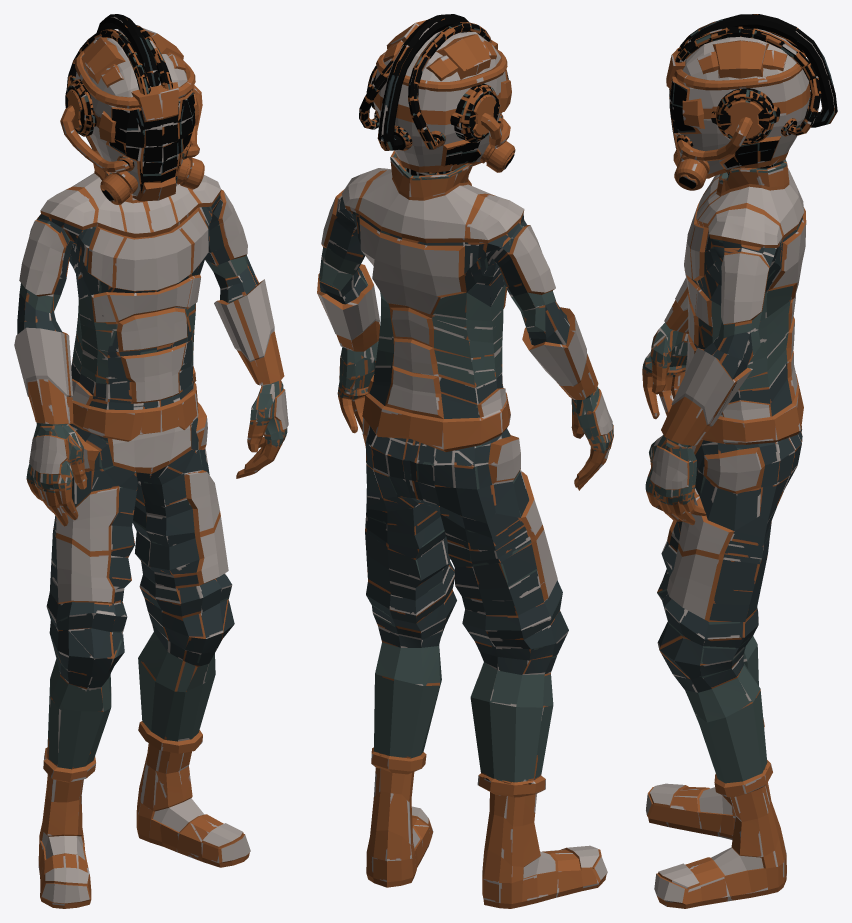
File: Fit.obj
The picture shows the model from 3 angles, left to right: view 1: azimuth 30°, elevation 25°; view 2: azimuth 150°, elevation 25°; view 3: azimuth 270°, elevation 25°; orthographic projection. The views are drawn at different scales.
Visible parts, largest first — view 1: SpaceSuit_Legs; view 2: SpaceSuit_Legs; view 3: SpaceSuit_Legs.
Part boxes in pixels (x1,y1,x2,y2): SpaceSuit_Legs: (14,14,288,908); SpaceSuit_Legs: (317,14,613,908); SpaceSuit_Legs: (642,14,837,908).
Size of the model in its own units: 1.16 by 3.58 by 0.7441.
Materials: 1 (1 with a texture image).
